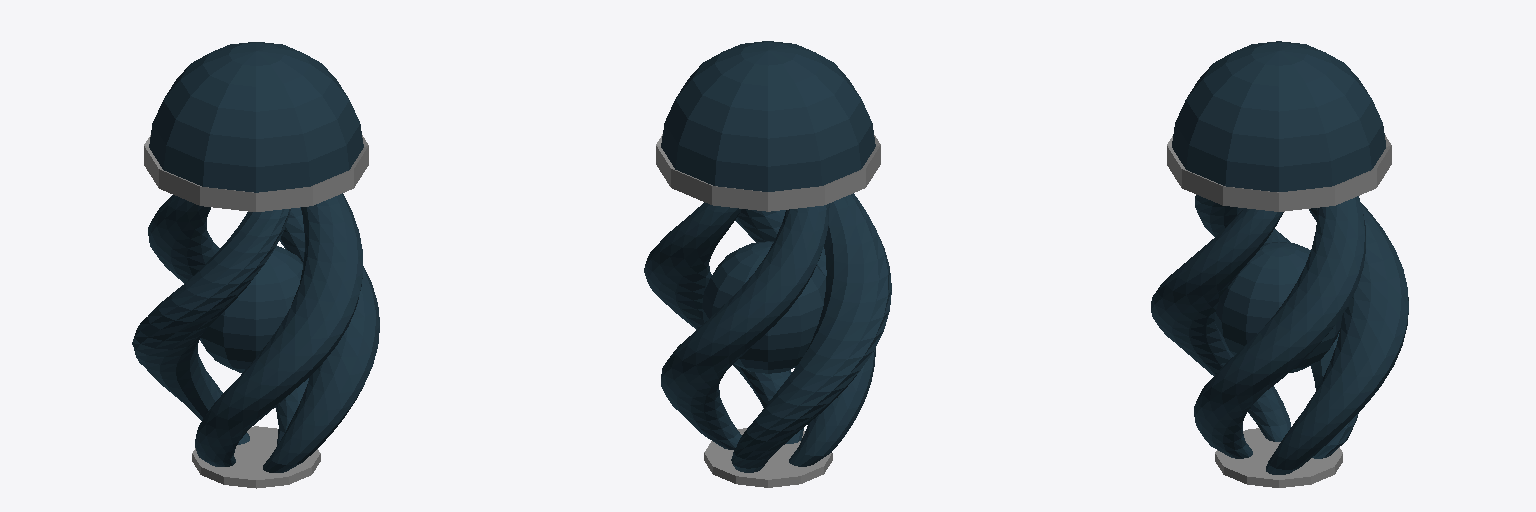
The model's file is Main_Tower.obj.
3 renders of one model, left to right at view 1: azimuth 30°, elevation 25°; view 2: azimuth 150°, elevation 25°; view 3: azimuth 270°, elevation 25°, orthographic.
Parts seen in each view (by area): view 1: MAIN_TOWER; view 2: MAIN_TOWER; view 3: MAIN_TOWER.
Part boxes in pixels (left/top/right/bottom): MAIN_TOWER: left=132, top=42, right=379, bottom=488; MAIN_TOWER: left=644, top=41, right=891, bottom=487; MAIN_TOWER: left=1151, top=41, right=1408, bottom=487.
Size of the model in its own units: 18.52 by 32.55 by 18.52.